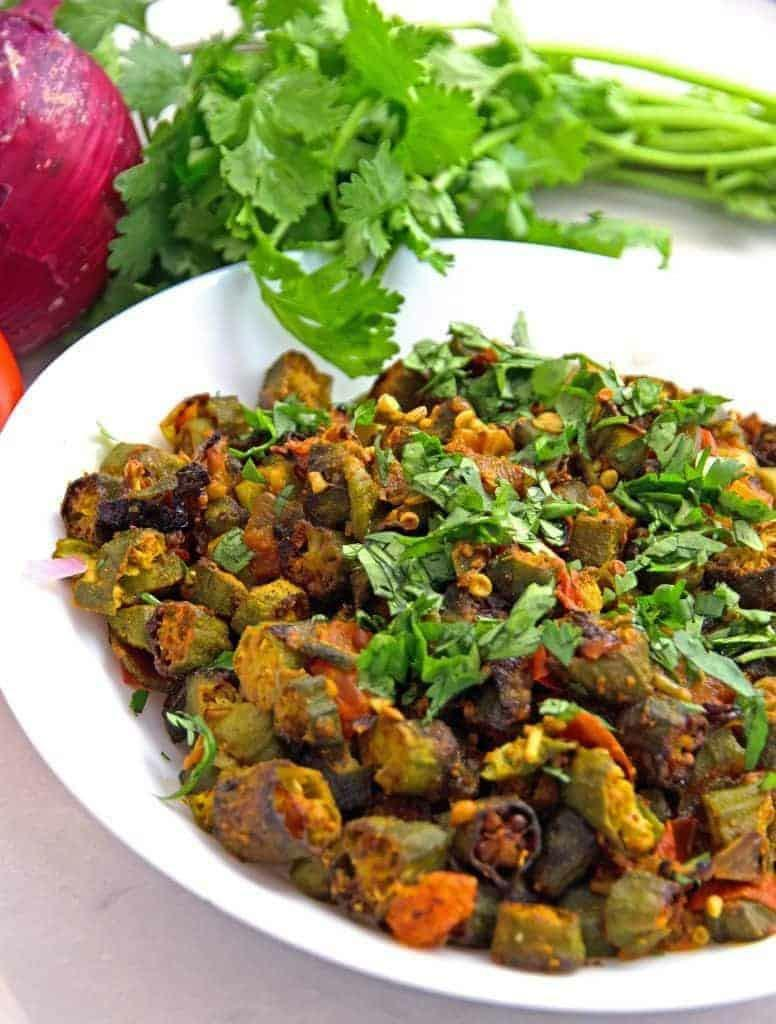BhindiMasala: (51, 351, 776, 977)
